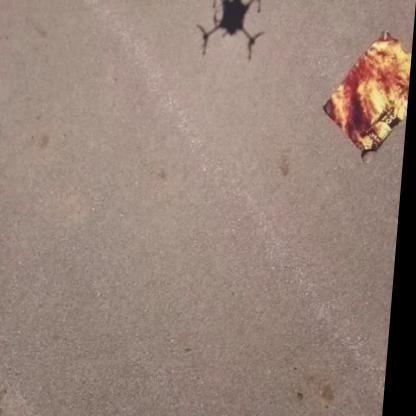fire-poster: (321, 27, 414, 162)
